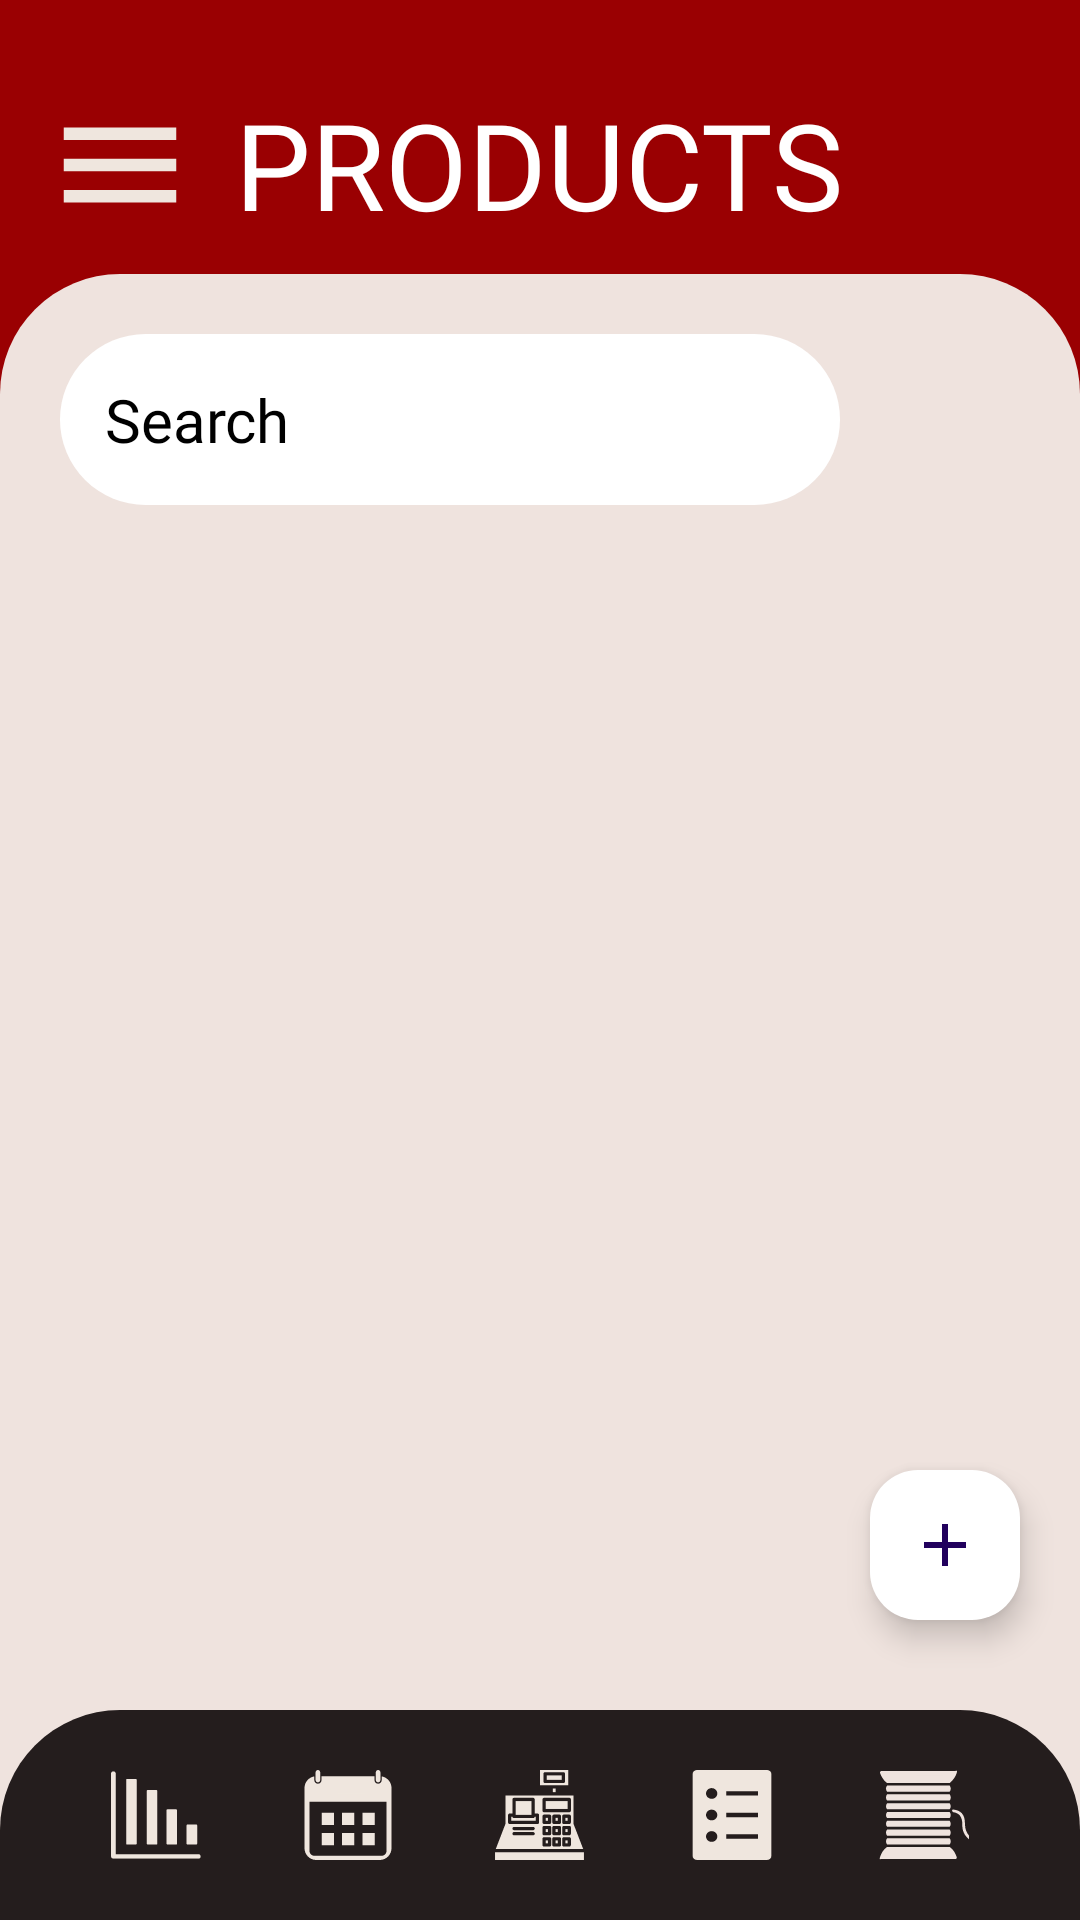

Locate icon controls on the screen. Image size 1080w x 1920h, boxes as (x1, y1, x2, y2).
add: (870, 1470, 1020, 1620)
materials: (879, 1770, 969, 1860)
Menu: (63, 127, 177, 203)
